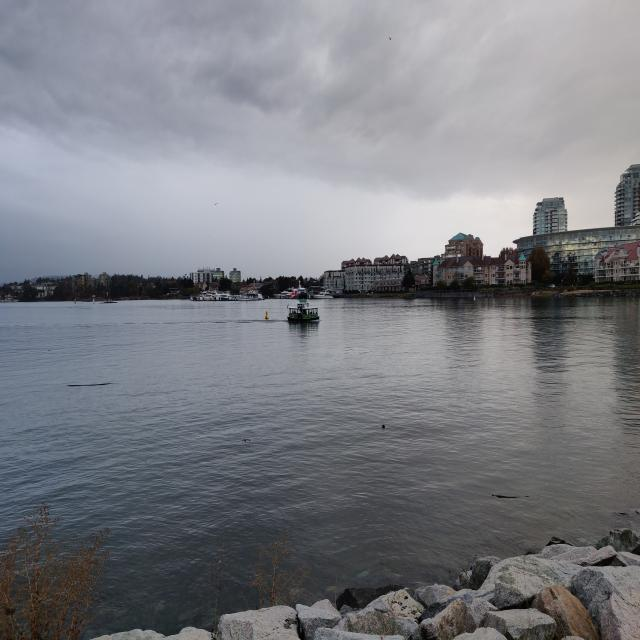boat: (286, 298, 321, 322), (234, 288, 262, 302), (291, 279, 307, 299), (272, 288, 296, 298), (312, 289, 333, 299), (198, 290, 218, 300), (212, 292, 234, 300)
debris: (65, 381, 117, 389), (490, 492, 530, 500), (374, 422, 386, 431)
mark: (264, 311, 270, 319), (473, 296, 476, 300)
